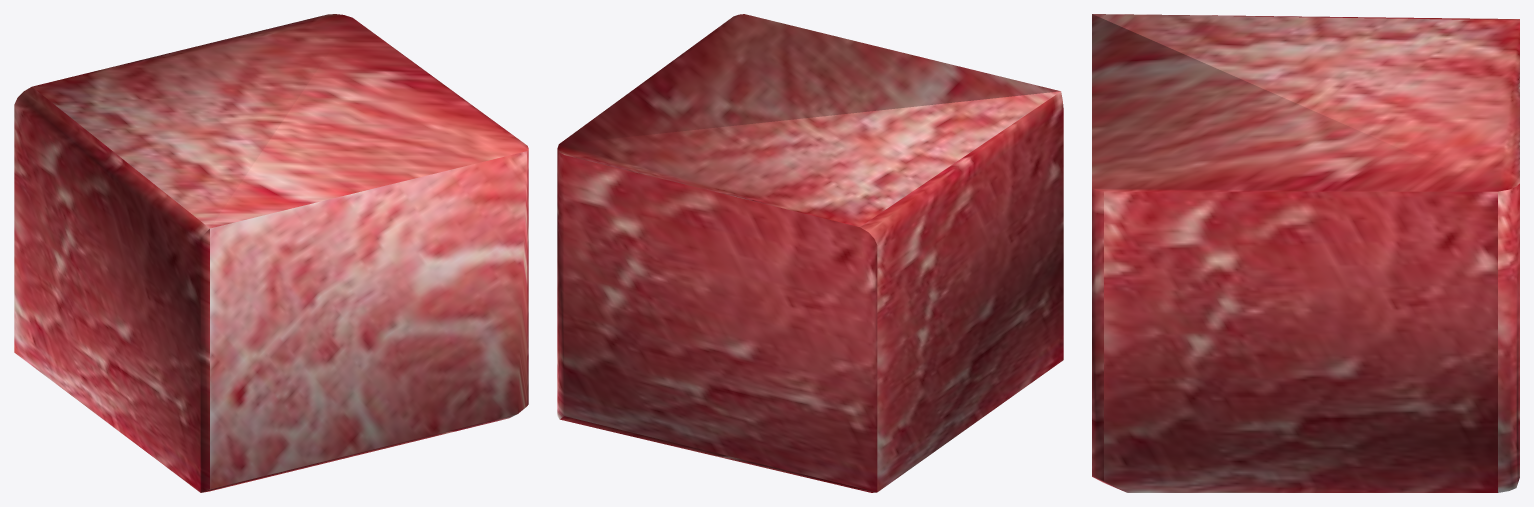
Rendered from beefCube.fbx.
3 views of the same model, side by side, from view 1: azimuth 30°, elevation 25°; view 2: azimuth 150°, elevation 25°; view 3: azimuth 270°, elevation 25° (orthographic). The views are drawn at different scales.
Parts seen in each view (by area): view 1: beef cube; view 2: beef cube; view 3: beef cube.
Part boxes in pixels (bbox=[...]): beef cube: bbox=[14, 14, 528, 492]; beef cube: bbox=[557, 14, 1063, 492]; beef cube: bbox=[1092, 14, 1519, 492].
Bounding box in the file's own units: 200 × 155 × 200.
1 material, 1 textured.
